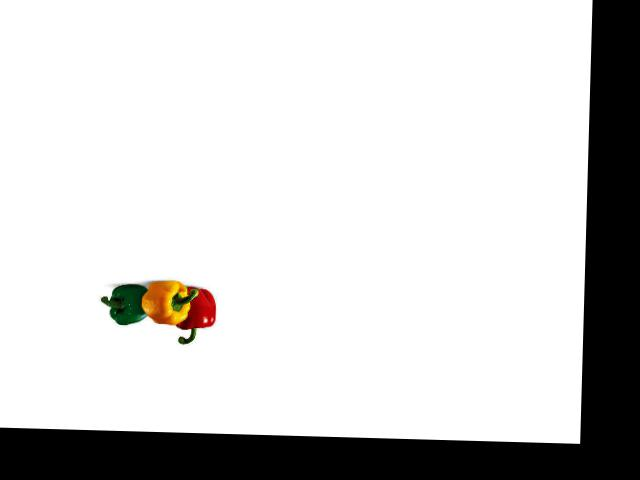bell_pepper: (102, 279, 153, 329)
